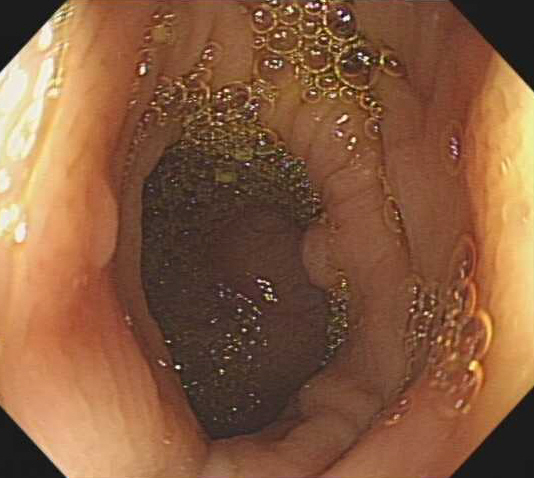adenoma: (88, 177, 120, 273), (297, 222, 340, 291)
